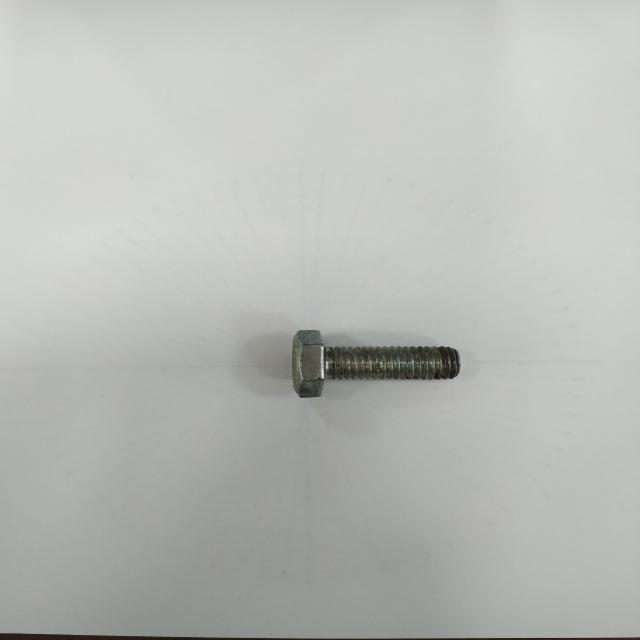Bolt: (291, 332, 460, 399)
